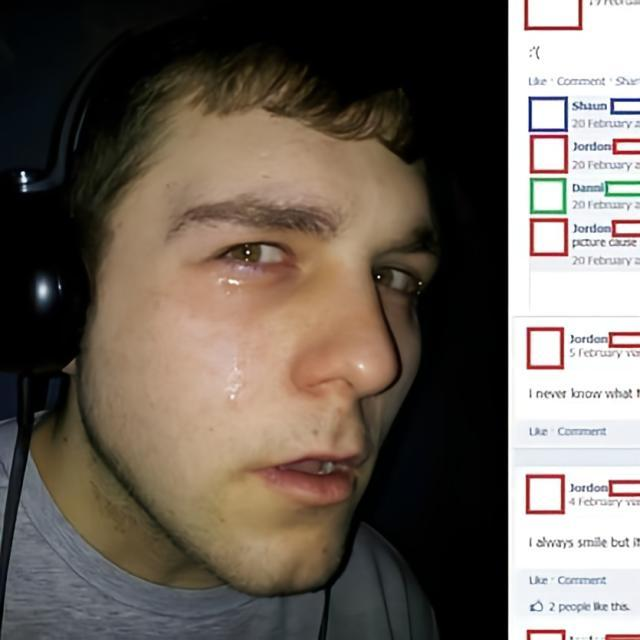sad: (74, 70, 444, 600)
